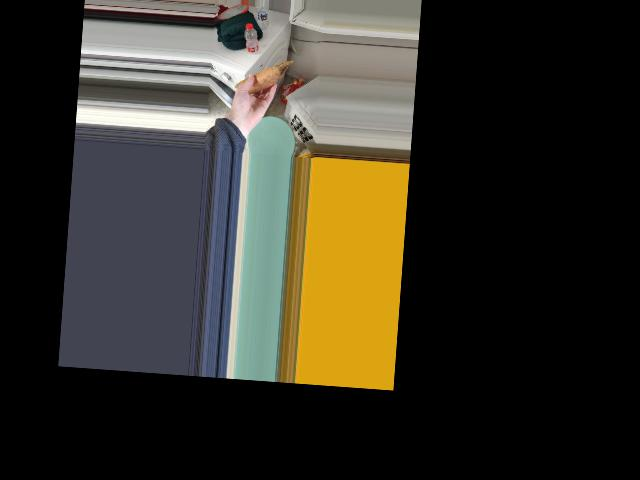sweet_potato: (243, 65, 278, 95)
